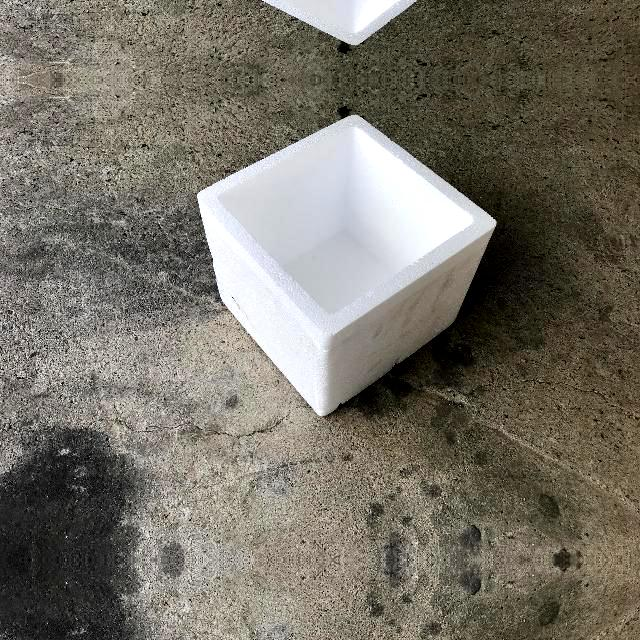Styrofoam: (197, 114, 498, 418), (197, 115, 497, 416)
